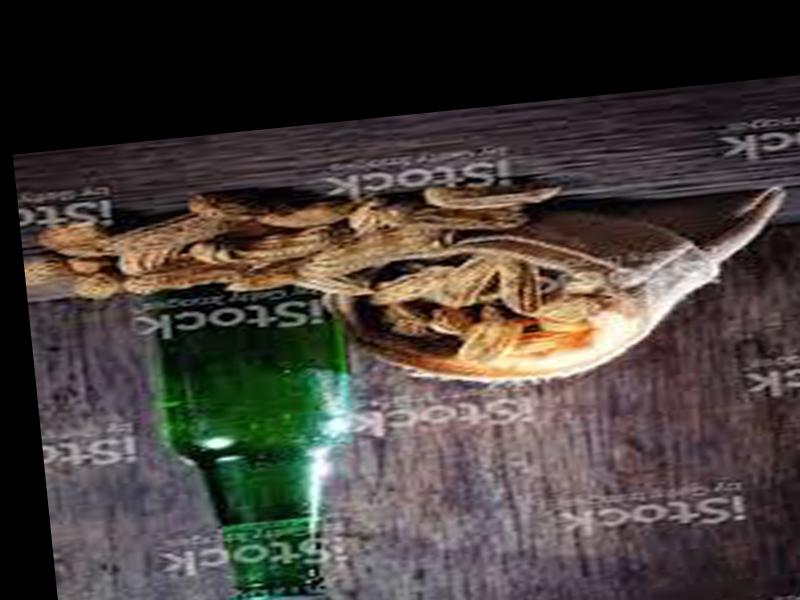Beer: (146, 248, 377, 600)
